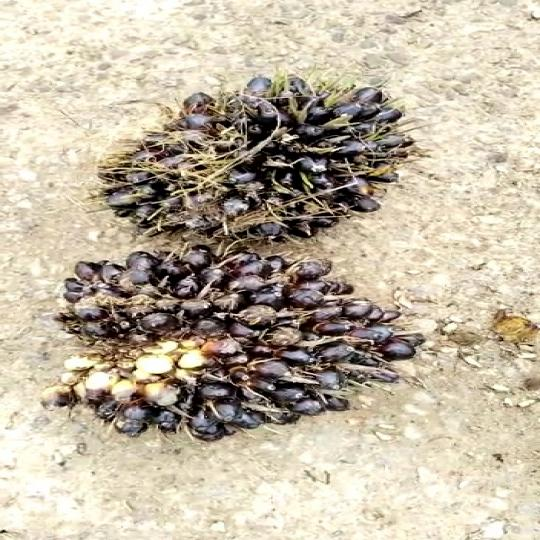mentah: (53, 243, 431, 458), (90, 61, 412, 244)
